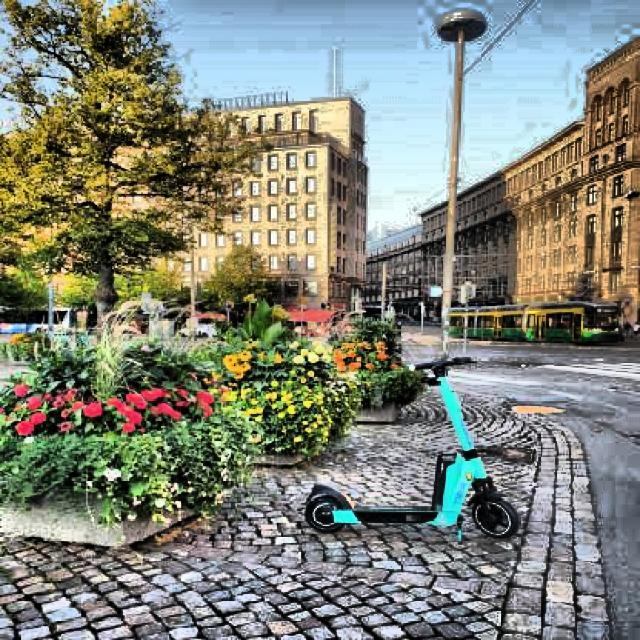bike: (304, 357, 520, 541)
